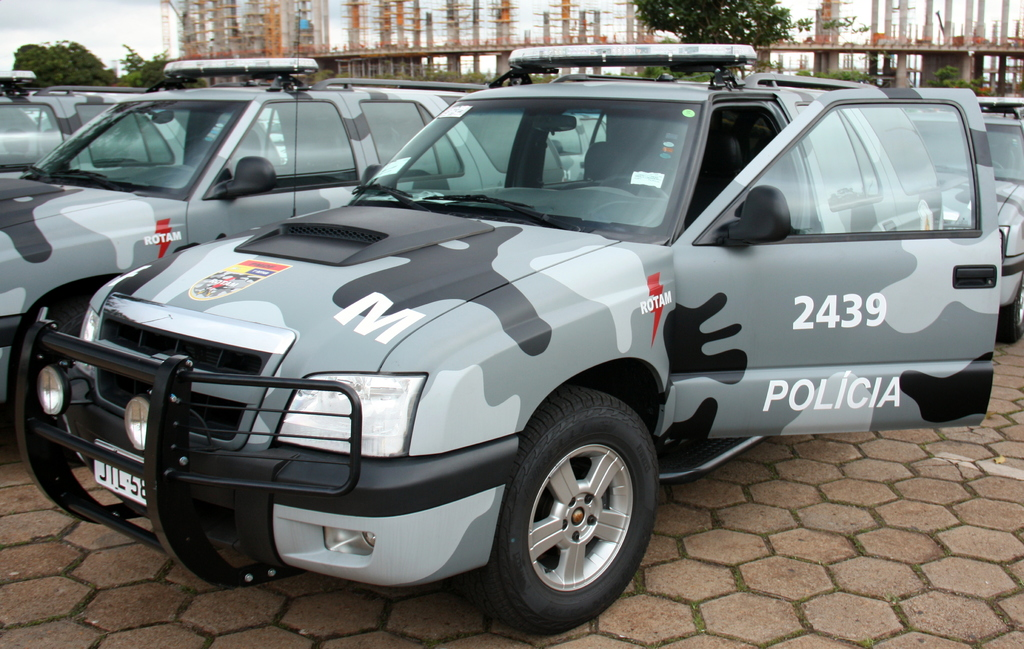Car: (0, 29, 1023, 635)
